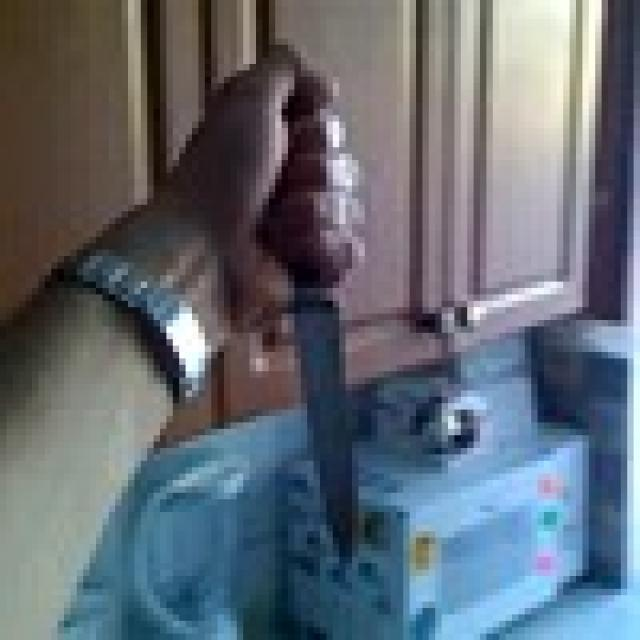knife: (236, 70, 378, 557)
